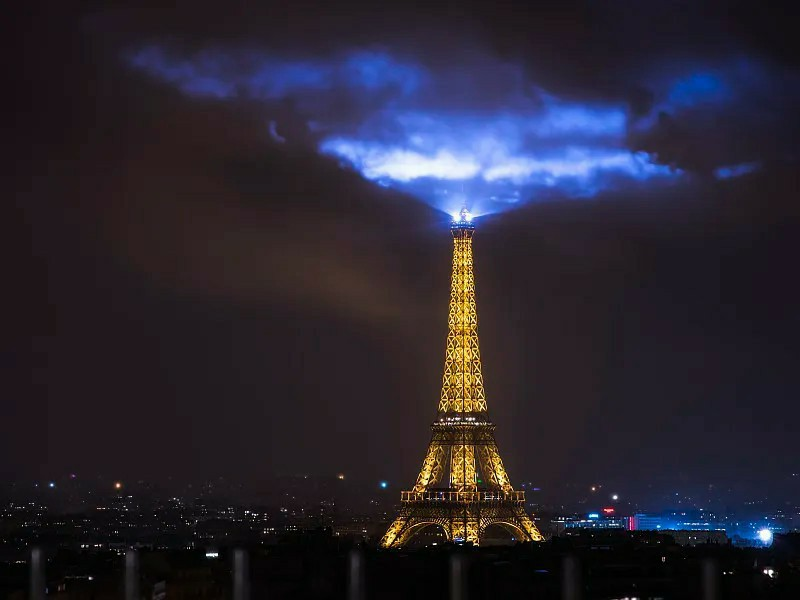Eiffel: (375, 185, 545, 546)
